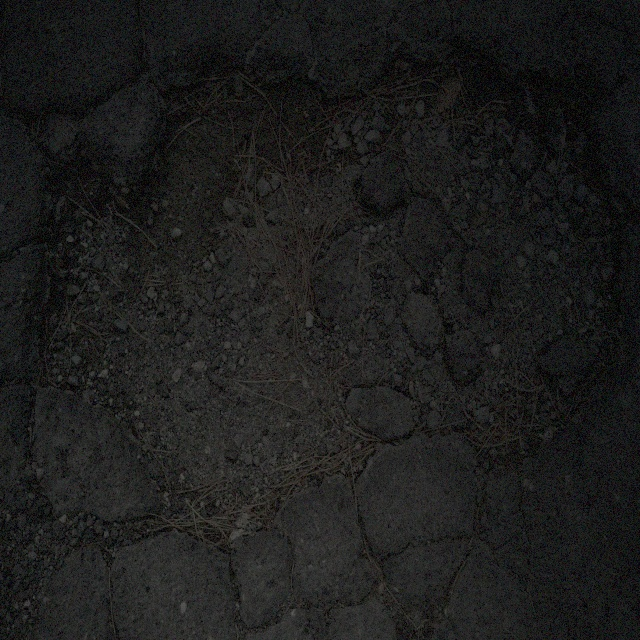pothole: (26, 34, 628, 508)
